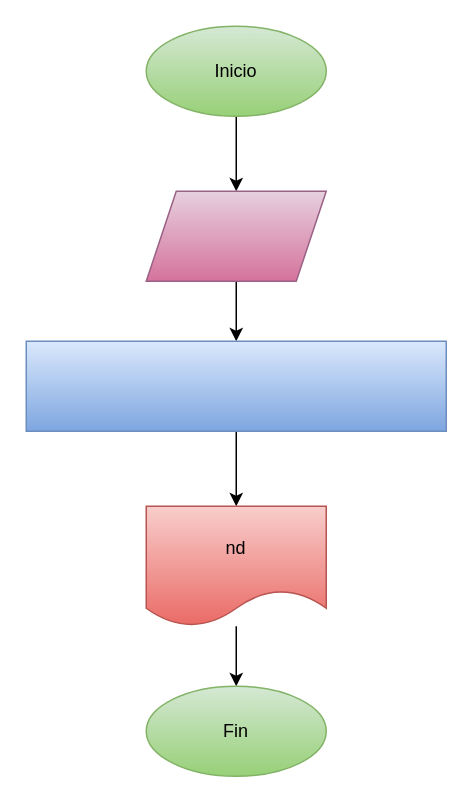
This 473x803 diagram has some shape labels left out. Each missing label, with the centre of its shape:
"nc, cp, na, au, bi" goes at point 235,235.
"nd = 0.3*nc + 0.3*np + 0.1*na + 0.1*au + 0.2*bi" goes at point 235,385.
